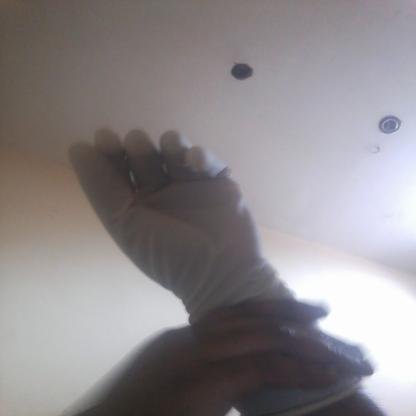gloved_hand: (64, 120, 378, 408)
